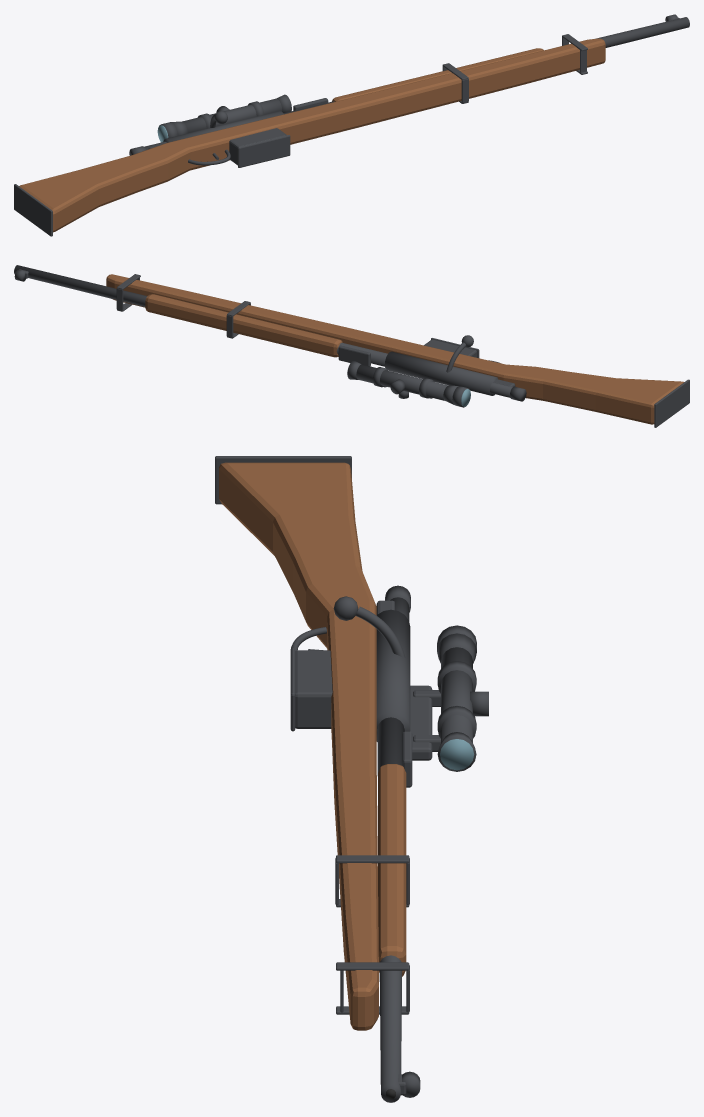
File: Item_rifle_mosin.fbx
The picture shows the model from 3 angles, top to bottom: view 1: azimuth 30°, elevation 25°; view 2: azimuth 150°, elevation 25°; view 3: azimuth 270°, elevation 25°; orthographic projection. The views are drawn at different scales.
Visible parts, largest first — view 1: model.001, bolt; view 2: model.001, bolt; view 3: model.001, bolt.
Part boxes in pixels (x1=…): model.001: x1=14, y1=14, x2=689, y2=236; bolt: x1=129, y1=111, x2=227, y2=155; model.001: x1=14, y1=265, x2=689, y2=427; bolt: x1=446, y1=335, x2=526, y2=401; model.001: x1=215, y1=456, x2=488, y2=1102; bolt: x1=333, y1=585, x2=410, y2=657.
Size of the model in its own units: 1.23 by 0.0925 by 0.232.
